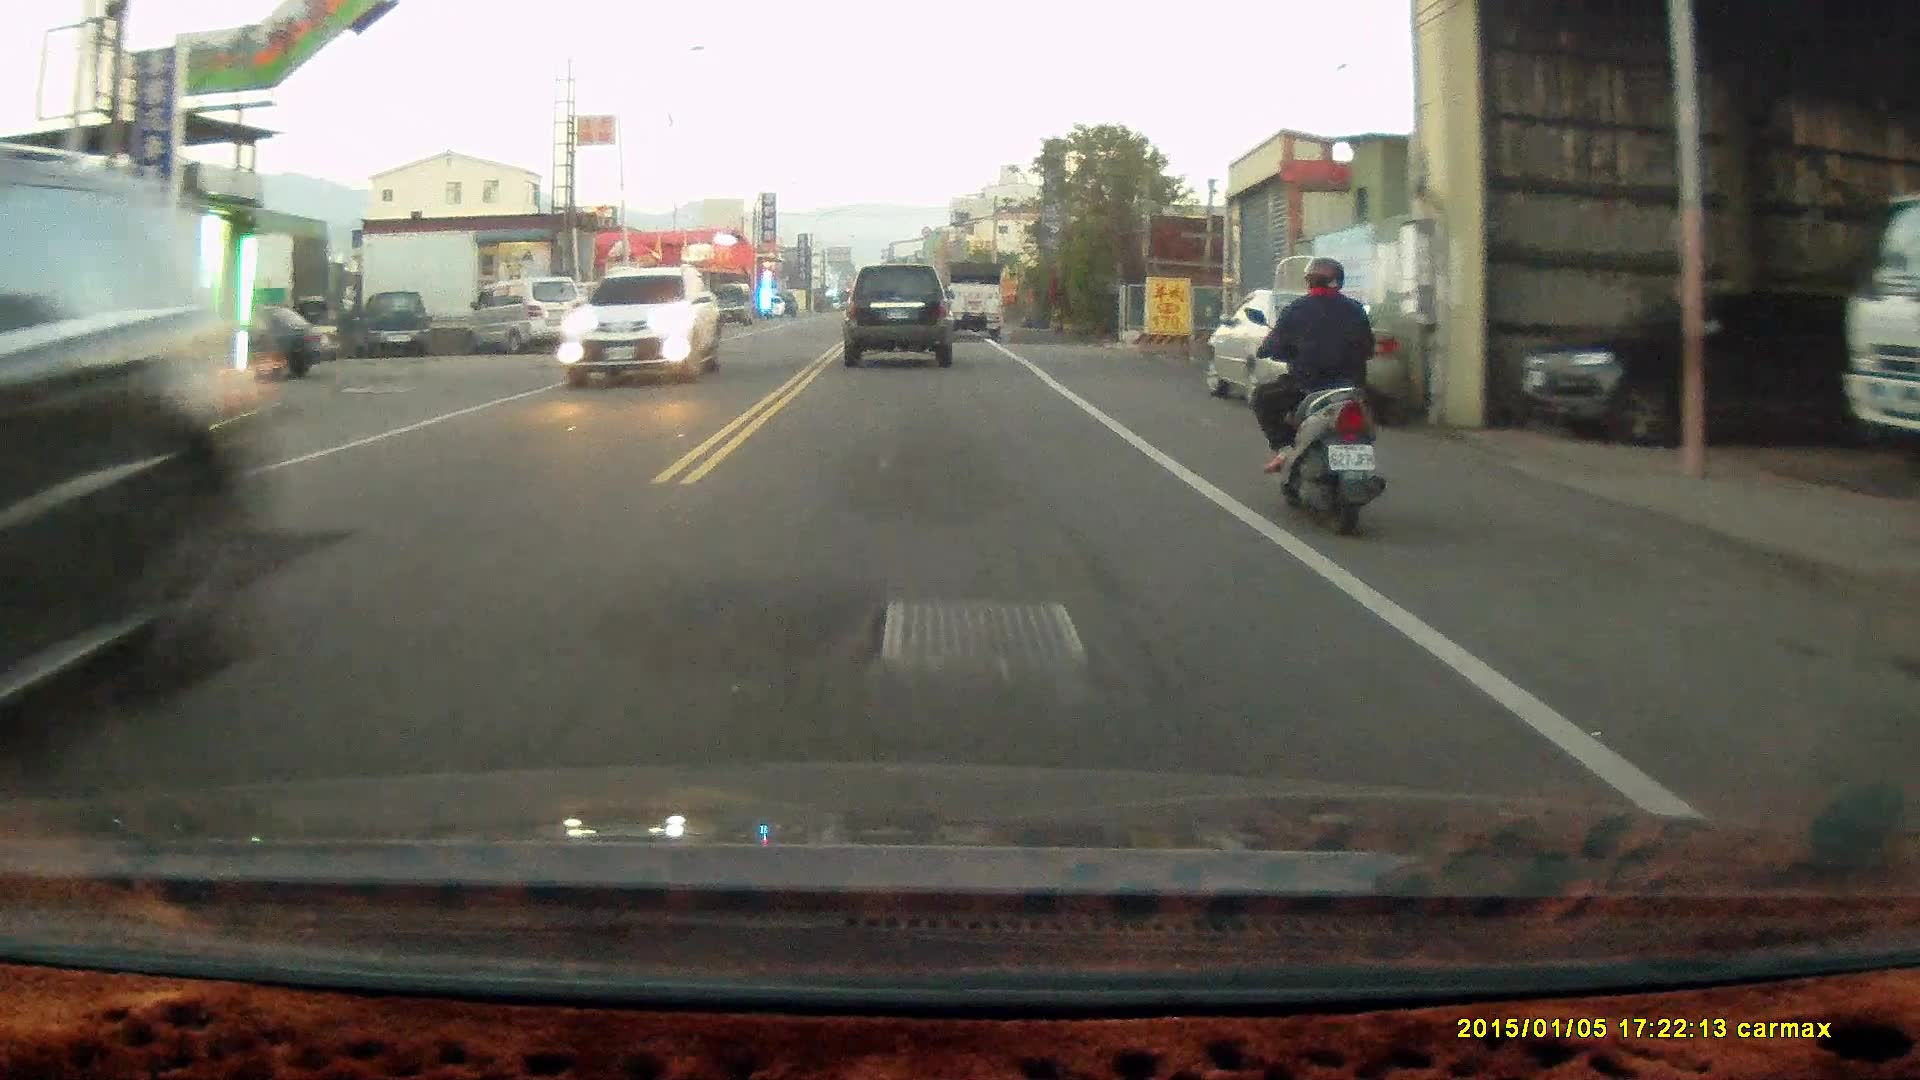rider: (1243, 257, 1388, 541)
vehicle: (1, 172, 279, 754), (1525, 293, 1862, 450), (1204, 284, 1415, 417), (557, 265, 725, 388), (844, 263, 957, 371), (188, 305, 343, 380), (472, 275, 583, 358), (938, 260, 1007, 342), (371, 290, 431, 359)
